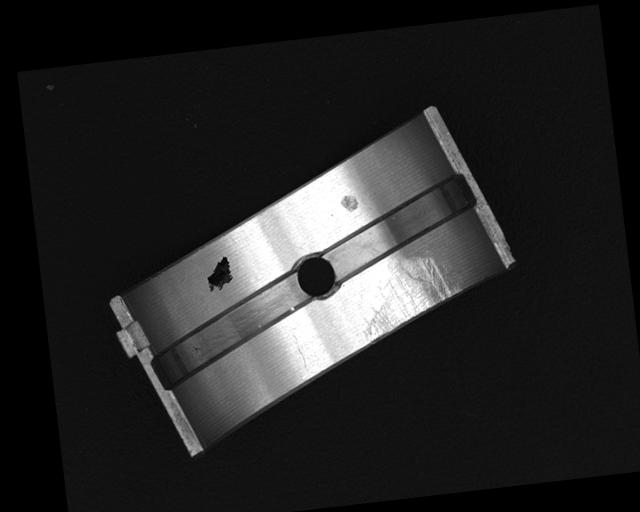blot: (203, 256, 235, 294)
bruise: (340, 193, 360, 214)
gap: (143, 270, 323, 387), (316, 172, 487, 283)
hole: (289, 248, 341, 305)
nick: (289, 331, 311, 376)
scratch: (355, 250, 468, 344)
